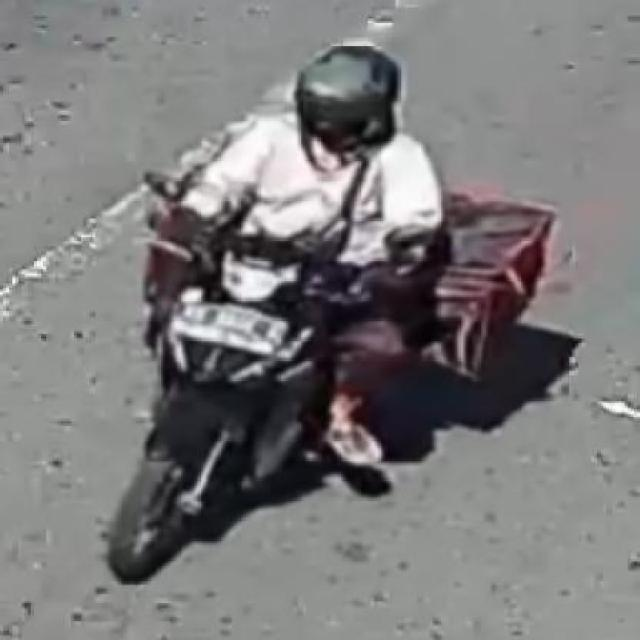helmet: (255, 37, 420, 158)
motorcycle: (61, 26, 596, 584)
